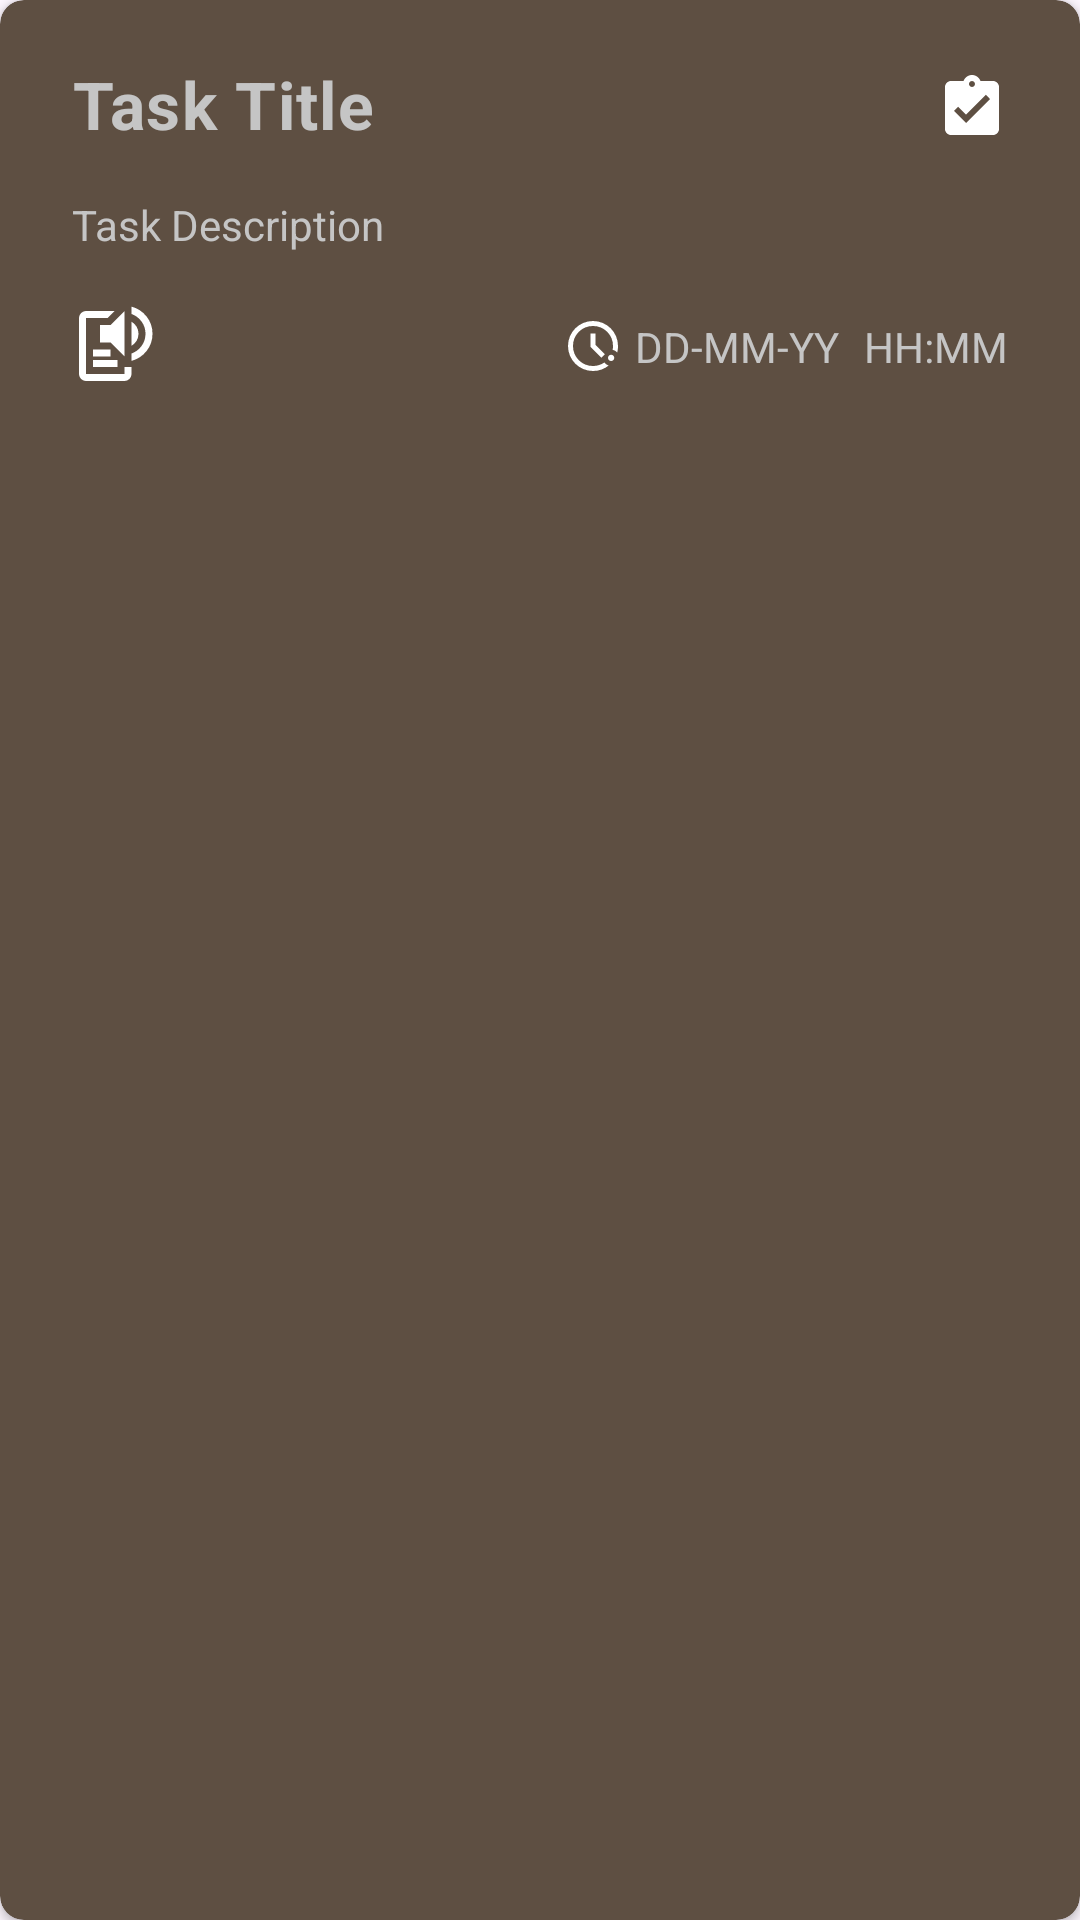

Screen size 1080w x 1920h. Icon name, then its center in pixels as (x=x, y=y):
due date: (x=593, y=346)
tasks: (x=972, y=105)
